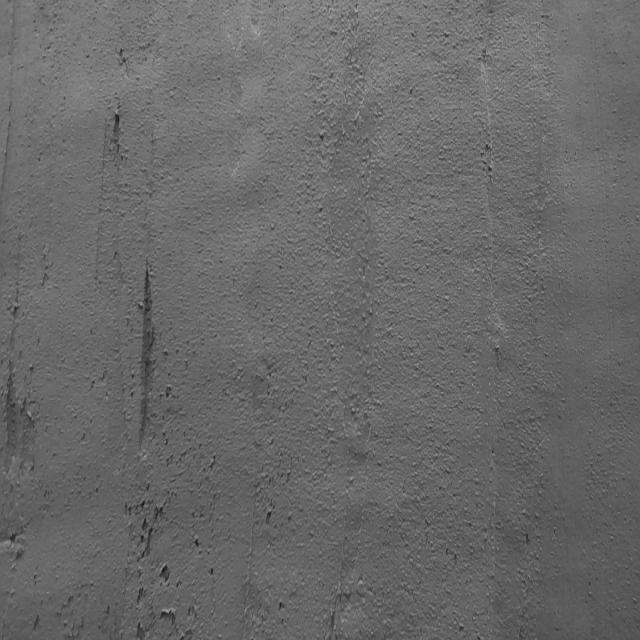trowels marks: (474, 5, 502, 640), (236, 423, 266, 640)
